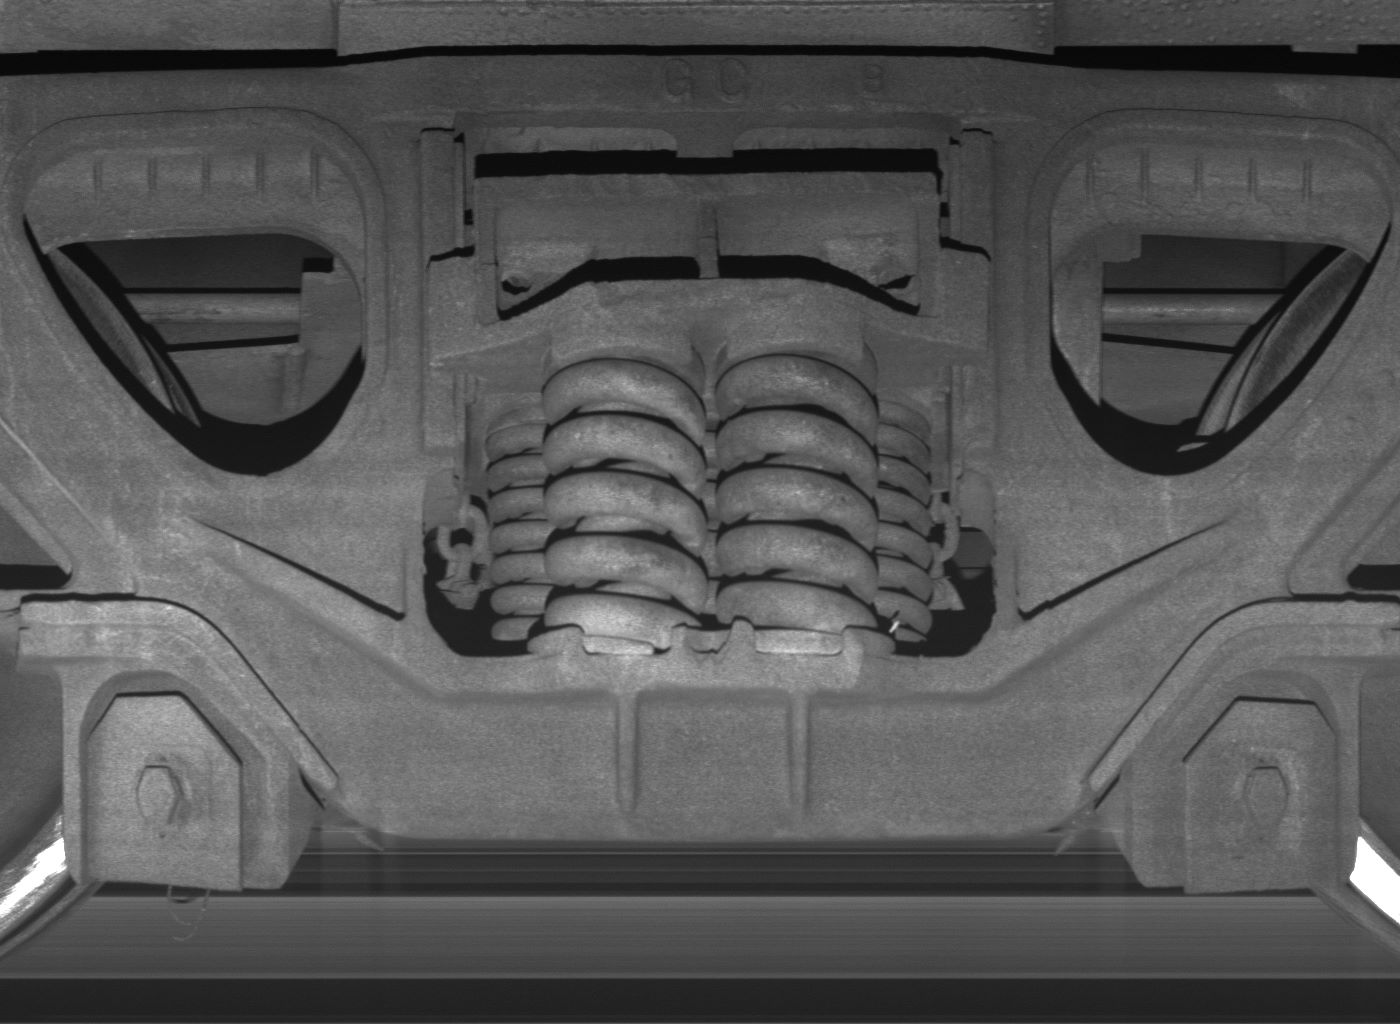normal: (64, 667, 293, 895), (1137, 669, 1357, 897)
